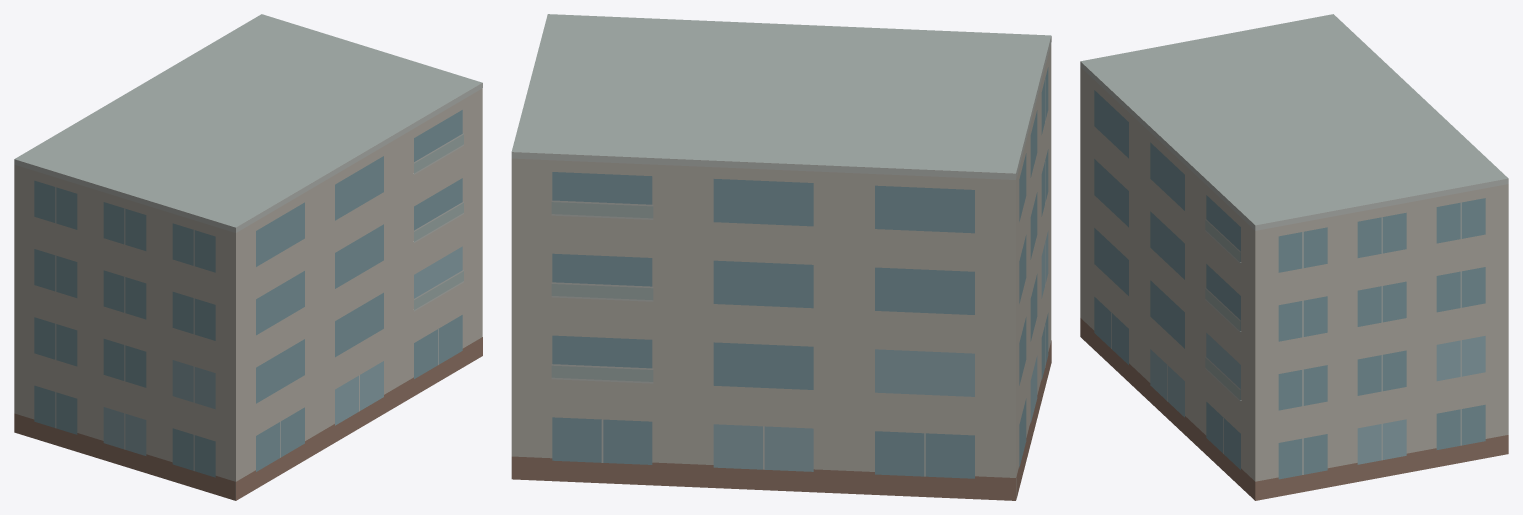
The model's file is survey-upis-32752516.glb.
3 renders of one model, left to right at view 1: azimuth 30°, elevation 25°; view 2: azimuth 150°, elevation 25°; view 3: azimuth 270°, elevation 25°, orthographic. The views are drawn at different scales.
Visible parts, largest first — view 1: survey-upis-32752516.tmp; view 2: survey-upis-32752516.tmp; view 3: survey-upis-32752516.tmp.
Boxes of the visible parts, left/top/right/bottom form: survey-upis-32752516.tmp: left=14, top=14, right=482, bottom=500; survey-upis-32752516.tmp: left=511, top=14, right=1051, bottom=500; survey-upis-32752516.tmp: left=1080, top=14, right=1508, bottom=500.
Size of the model in its own units: 20.09 by 12.2 by 17.2.
